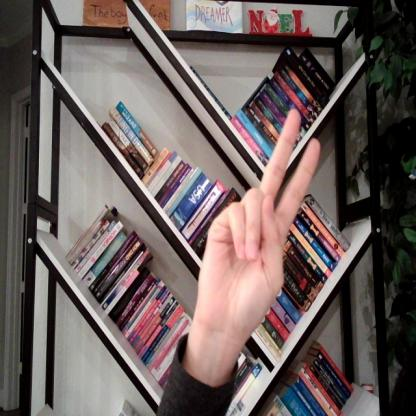two: (195, 102, 324, 334)
